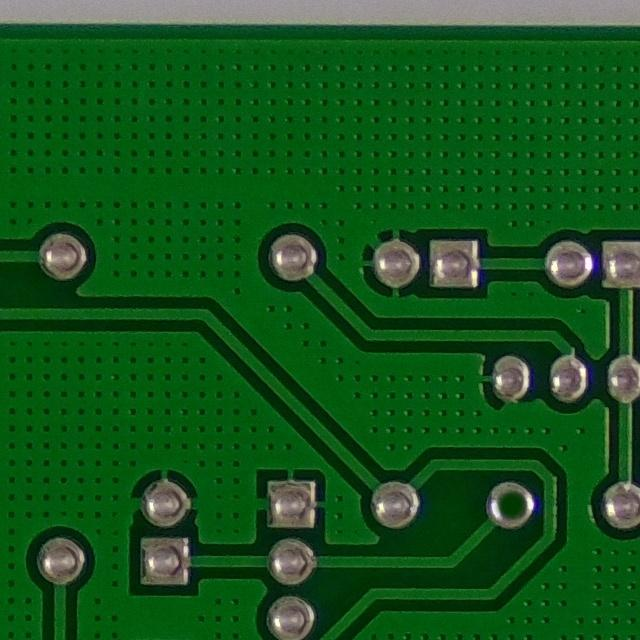missing_hole: (491, 487, 540, 531)
